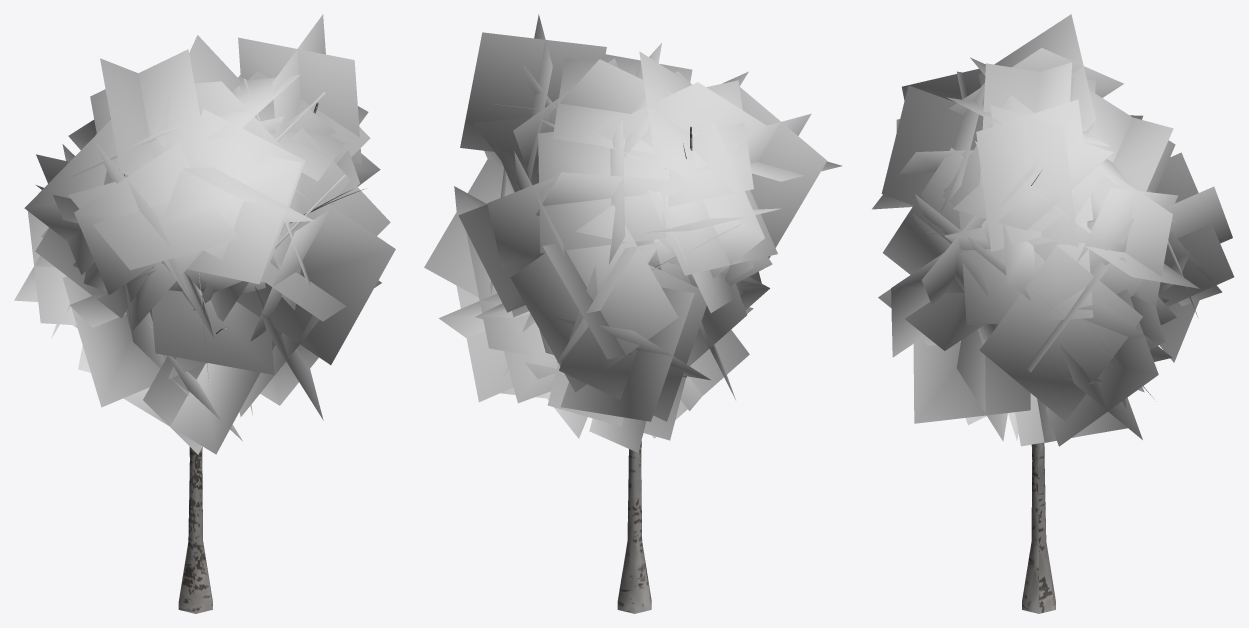
Rendered from tree04_main_LOD1.fbx.
The picture shows the model from 3 angles, left to right: view 1: azimuth 30°, elevation 25°; view 2: azimuth 150°, elevation 25°; view 3: azimuth 270°, elevation 25°; orthographic projection.
Parts seen in each view (by area): view 1: Cylinder.019; view 2: Cylinder.019; view 3: Cylinder.019.
Boxes of the visible parts, x1=… form: Cylinder.019: x1=14, y1=14, x2=395, y2=613; Cylinder.019: x1=424, y1=14, x2=842, y2=613; Cylinder.019: x1=872, y1=14, x2=1234, y2=613.
Bounding box in the file's own units: 401 × 633 × 375.
